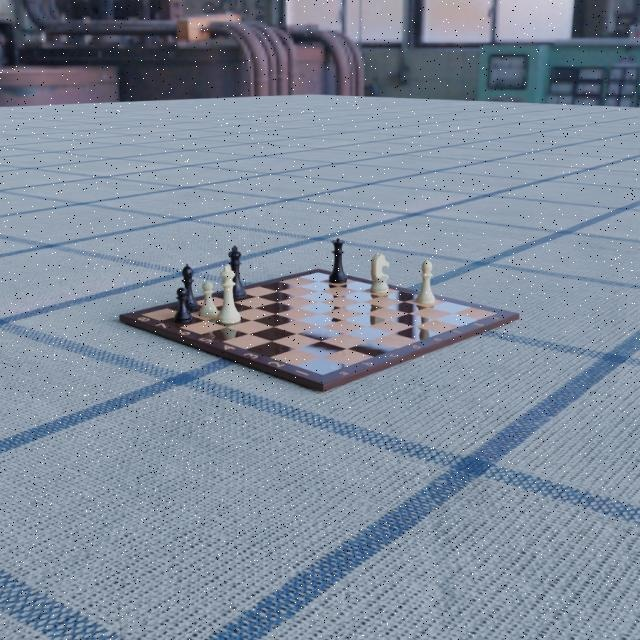black-bishop: (179, 263, 201, 313)
black-king: (228, 244, 248, 300)
black-pawn: (173, 287, 194, 325)
white-bishop: (414, 256, 436, 305)
white-king: (215, 262, 242, 325)
white-knight: (369, 252, 390, 294)
white-pawn: (199, 281, 219, 318)
white-queen: (328, 236, 347, 283)
